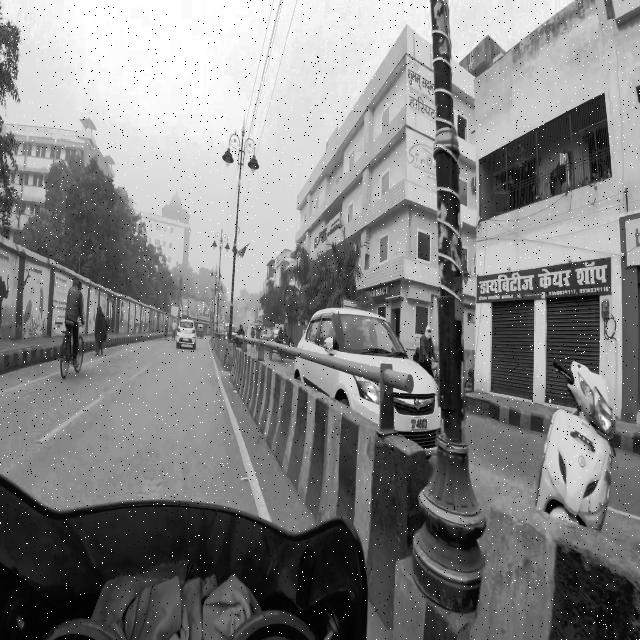Bike: (539, 346, 620, 553)
Car: (294, 298, 446, 444), (172, 312, 200, 364)
